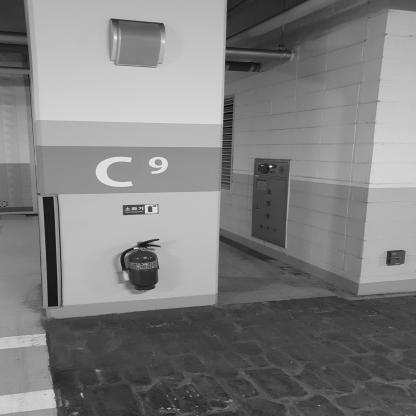FE: (121, 239, 160, 290)
